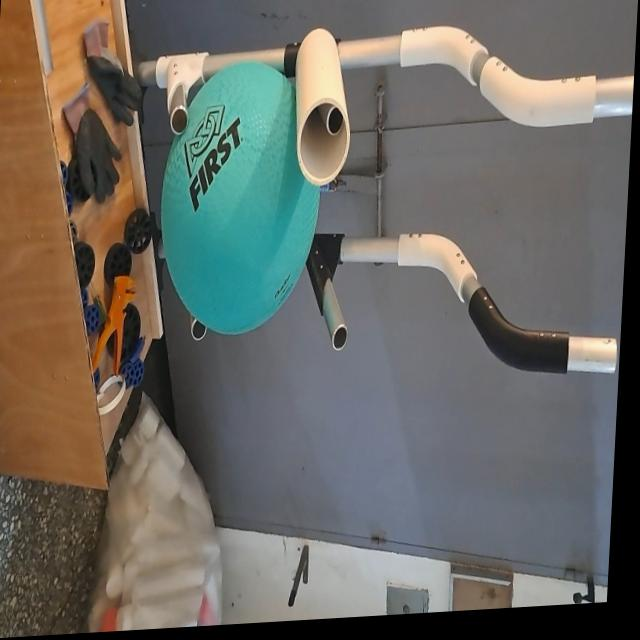ALGAE: (147, 60, 328, 340)
CORAL: (282, 20, 357, 183)
